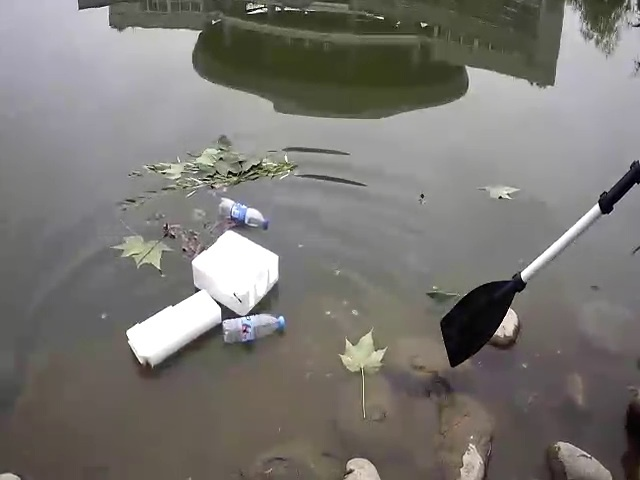bottle: (212, 193, 278, 233), (221, 311, 292, 342)
leaf: (128, 134, 300, 188), (329, 328, 388, 387), (110, 226, 172, 274), (476, 176, 524, 207)
paomo: (179, 227, 283, 310), (119, 294, 221, 360)
